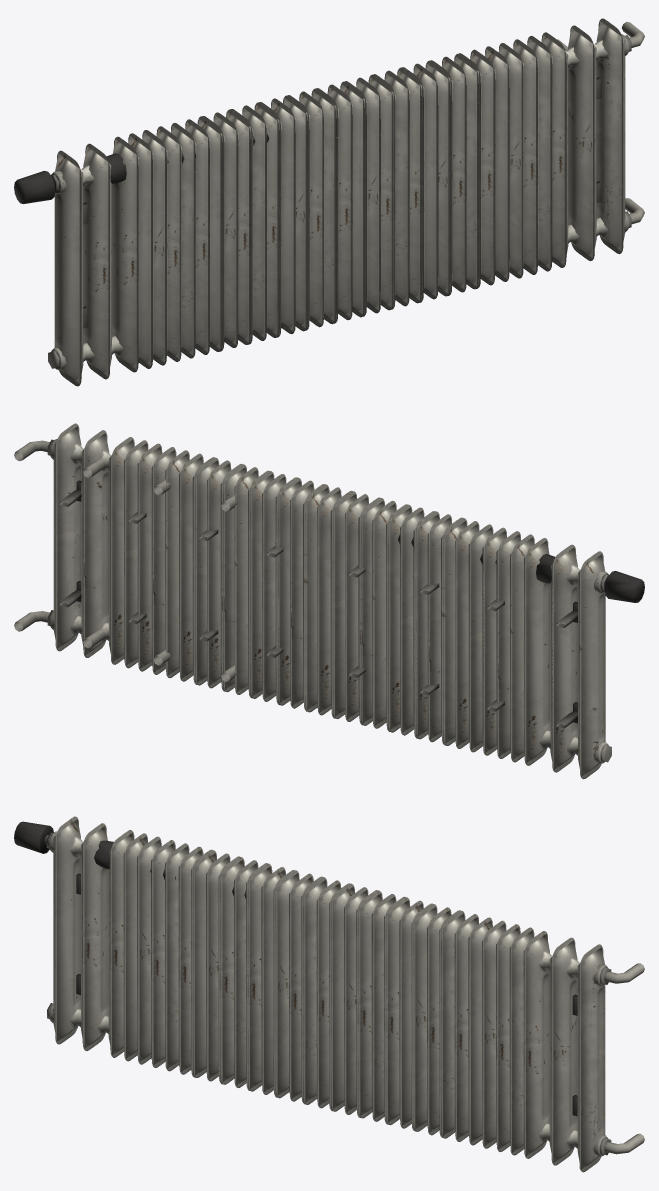
File: heizkoeper_01.fbx
3 views of the same model, one above another, from view 1: azimuth 30°, elevation 25°; view 2: azimuth 150°, elevation 25°; view 3: azimuth 330°, elevation 25° (orthographic). The views are drawn at different scales.
Parts seen in each view (by area): view 1: heizung_typ04, heizung_typ03, heizung_typ02, heizung_typ01; view 2: heizung_typ04, heizung_typ03, heizung_typ02, heizung_typ01; view 3: heizung_typ04, heizung_typ03, heizung_typ01, heizung_typ02.
Part boxes in pixels (x1,y1,x2,y2): heizung_typ04: (14, 18, 644, 386); heizung_typ03: (106, 36, 567, 368); heizung_typ02: (167, 53, 478, 351); heizung_typ01: (253, 90, 409, 321); heizung_typ04: (14, 423, 644, 779); heizung_typ03: (83, 440, 555, 762); heizung_typ02: (153, 457, 496, 745); heizung_typ01: (221, 493, 413, 717); heizung_typ04: (14, 816, 644, 1172); heizung_typ03: (94, 833, 534, 1155); heizung_typ01: (232, 867, 396, 1121); heizung_typ02: (150, 849, 460, 1137).
Bounding box in the file's own units: 174 × 60 × 14.66.
